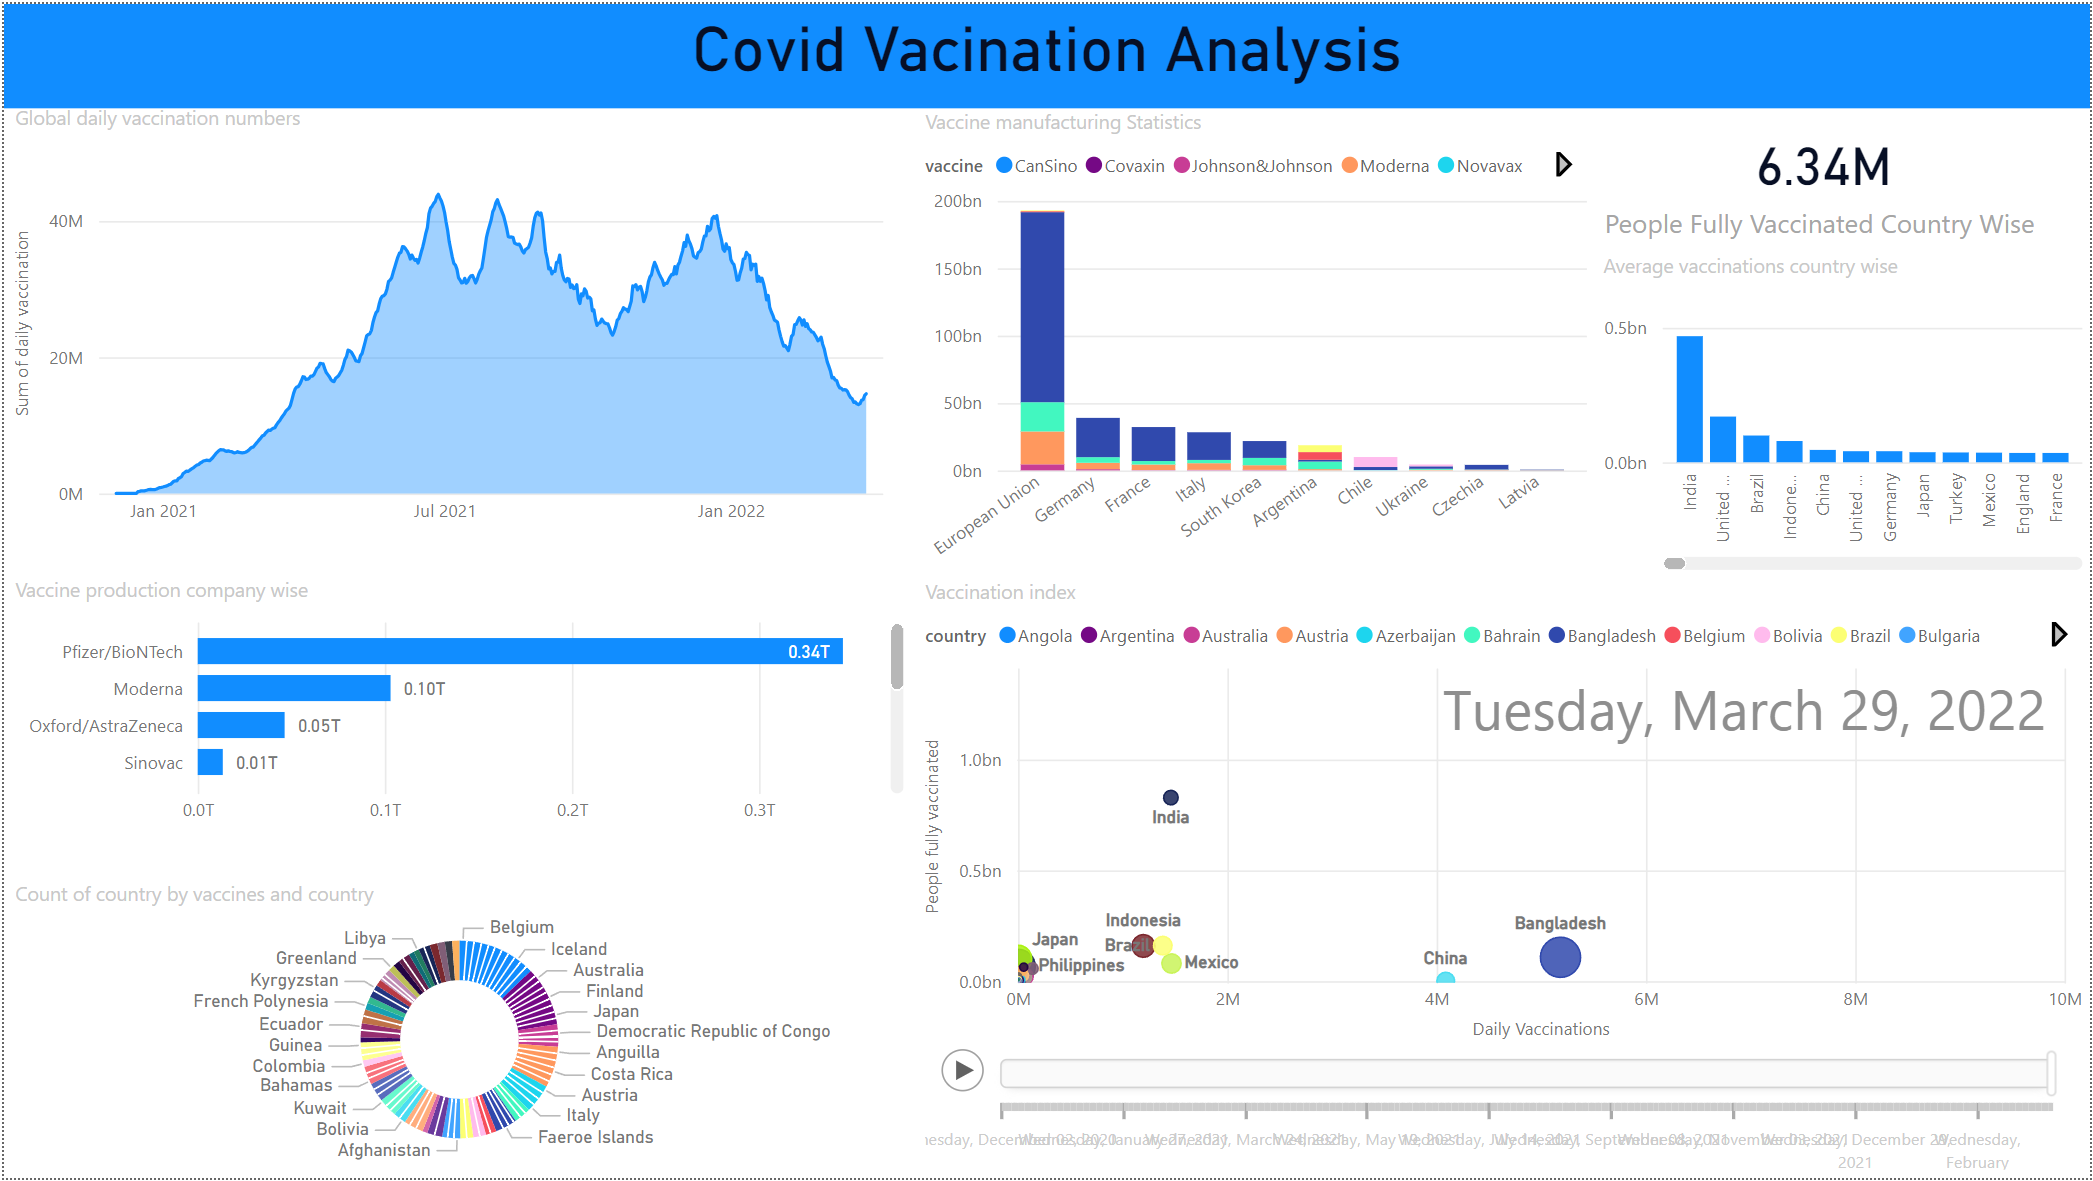

Layout of this report page (visuals, bound fields, positions):
{"tool":"powerbi","page":{"name":"Page 1","canvas":[1280,720],"ordinal":0},"visuals":[{"type":"areaChart","title":"Global daily vaccination numbers","fields":{"Category":["country_vaccinations.date.Variation.Date Hierarchy.Year","country_vaccinations.date.Variation.Date Hierarchy.Month","country_vaccinations.date.Variation.Date Hierarchy.Day"],"Y":["Sum(country_vaccinations.daily_vaccinations)"]},"box":[2,61.2,555.1,279.9],"z":0},{"type":"clusteredBarChart","title":"Vaccine production company wise","fields":{"Y":["Sum(country_vaccinations_by_manufac.total_vaccinations)"],"Category":["country_vaccinations_by_manufac.vaccine"]},"box":[2,351.2,555.1,161.3],"z":1},{"type":"donutChart","fields":{"Category":["country_vaccinations.vaccines"],"Series":["country_vaccinations.country"],"Y":["CountNonNull(country_vaccinations.country)"]},"box":[2,537.4,555.1,179.7],"z":2},{"type":"textbox","box":[0,0,1280,64],"z":3},{"type":"card","fields":{"Values":["Avg(country_vaccinations.people_fully_vaccinated)"]},"box":[952,64,328,88],"z":4},{"type":"scatterChart","title":"Vaccination index","fields":{"X":["Sum(country_vaccinations.daily_vaccinations_raw)"],"Y":["Sum(country_vaccinations.people_fully_vaccinated)"],"Series":["country_vaccinations.country"],"Size":["Sum(country_vaccinations.daily_vaccinations_per_million)"],"Play":["country_vaccinations.date"]},"box":[560,352,720,368],"z":5},{"type":"columnChart","title":"Vaccine manufacturing Statistics","fields":{"Category":["country_vaccinations_by_manufac.location"],"Y":["Sum(country_vaccinations_by_manufac.total_vaccinations)"],"Series":["country_vaccinations_by_manufac.vaccine"]},"box":[560,64,416,288],"z":6},{"type":"clusteredColumnChart","title":"Average vaccinations country wise","fields":{"Category":["country_vaccinations.country"],"Y":["Avg(country_vaccinations.people_vaccinated)"]},"box":[976,152,304,200],"z":7}]}

Visuals, with their boxes in screenshot pixels (x1, y1, x2, y2), scaled from the page's 1280x720 canvas onto the 2093x1181 screenshot:
"Global daily vaccination numbers" areaChart: (x1=3, y1=100, x2=911, y2=559)
"Vaccine production company wise" clusteredBarChart: (x1=3, y1=576, x2=911, y2=841)
donutChart - country_vaccinations.vaccines x country_vaccinations.country: (x1=3, y1=881, x2=911, y2=1176)
textbox: (x1=0, y1=0, x2=2092, y2=105)
card - Avg(country_vaccinations.people_fully_vaccinated): (x1=1557, y1=105, x2=2092, y2=249)
"Vaccination index" scatterChart: (x1=916, y1=577, x2=2092, y2=1180)
"Vaccine manufacturing Statistics" columnChart: (x1=916, y1=105, x2=1596, y2=577)
"Average vaccinations country wise" clusteredColumnChart: (x1=1596, y1=249, x2=2092, y2=577)
